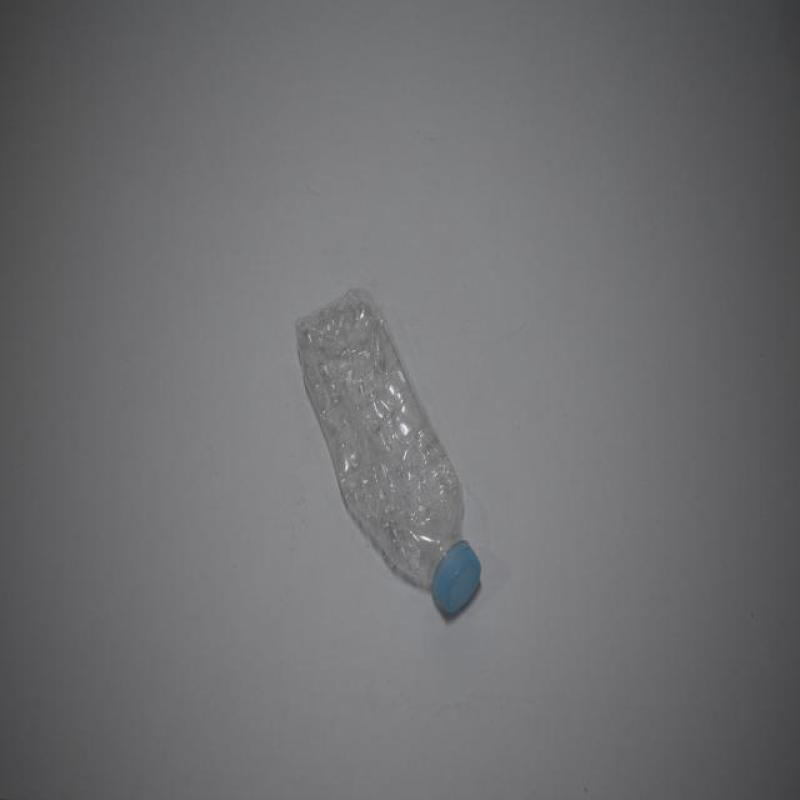botella: (296, 285, 482, 616)
